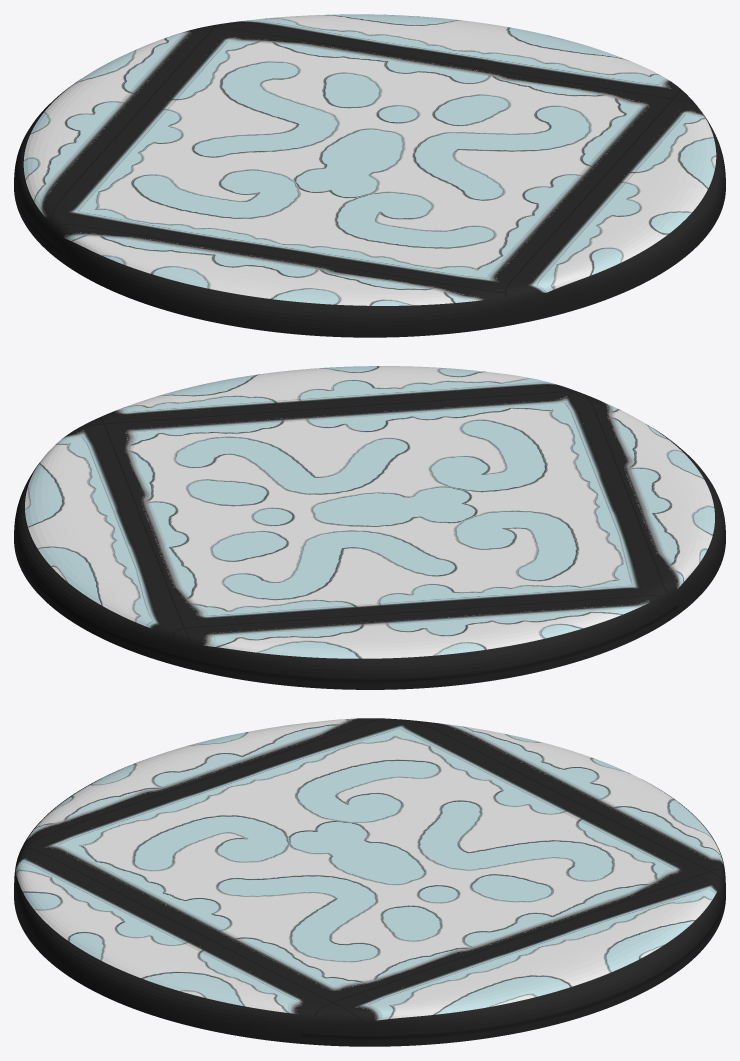
Rendered from Platform_Prototype.fbx.
The picture shows the model from 3 angles, top to bottom: view 1: azimuth 30°, elevation 25°; view 2: azimuth 150°, elevation 25°; view 3: azimuth 270°, elevation 25°; orthographic projection.
Visible parts, largest first — view 1: Platform_Prototype; view 2: Platform_Prototype; view 3: Platform_Prototype.
Boxes of the visible parts, x1,y1,x2,y2 form: Platform_Prototype: (14, 14, 725, 337); Platform_Prototype: (14, 366, 725, 689); Platform_Prototype: (14, 718, 725, 1046).
Size of the model in its own units: 199 by 10 by 199.
Materials: 1 (1 with a texture image).
